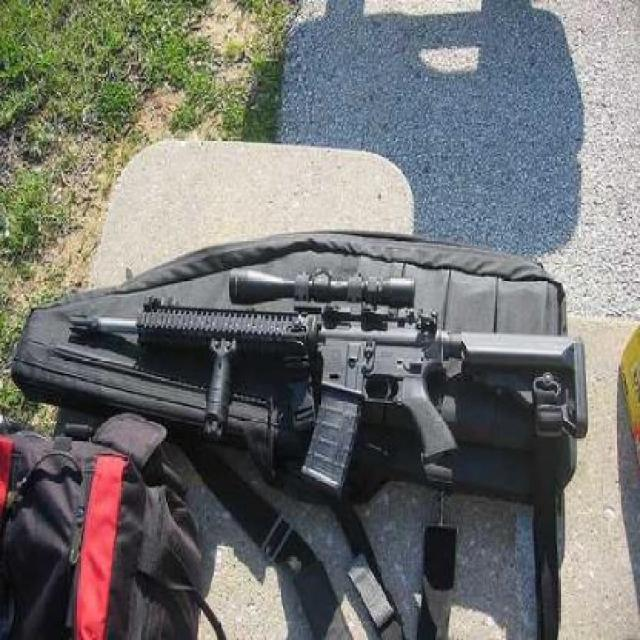weapon: (63, 270, 590, 498)
